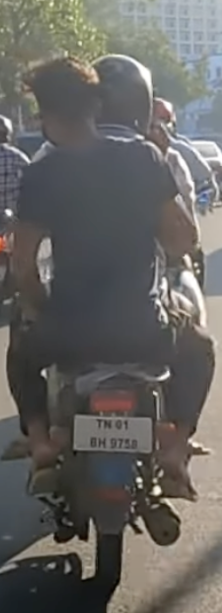motor: (11, 310, 210, 592), (133, 486, 221, 517)
no helmet: (14, 49, 114, 142)
number: (65, 398, 163, 460)
with helmet: (85, 43, 165, 135)
